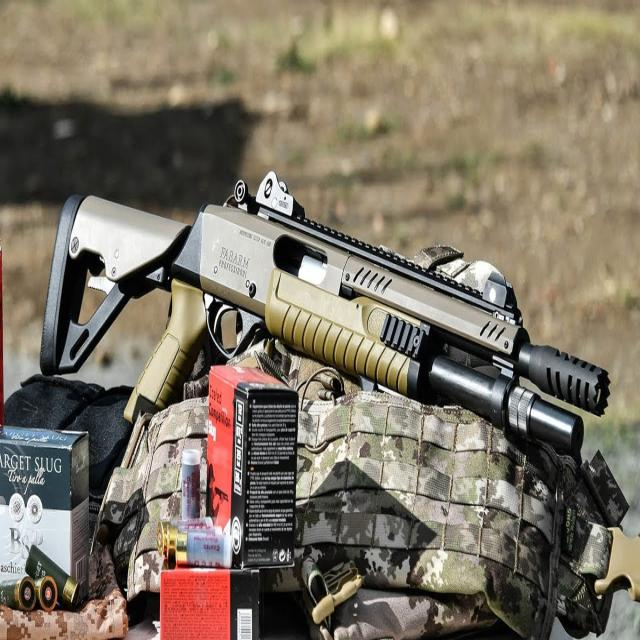ShotGun: (39, 174, 612, 460)
